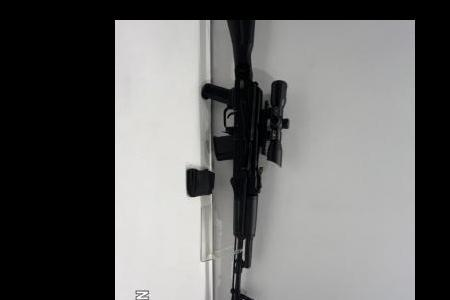larga: (200, 19, 290, 300)
